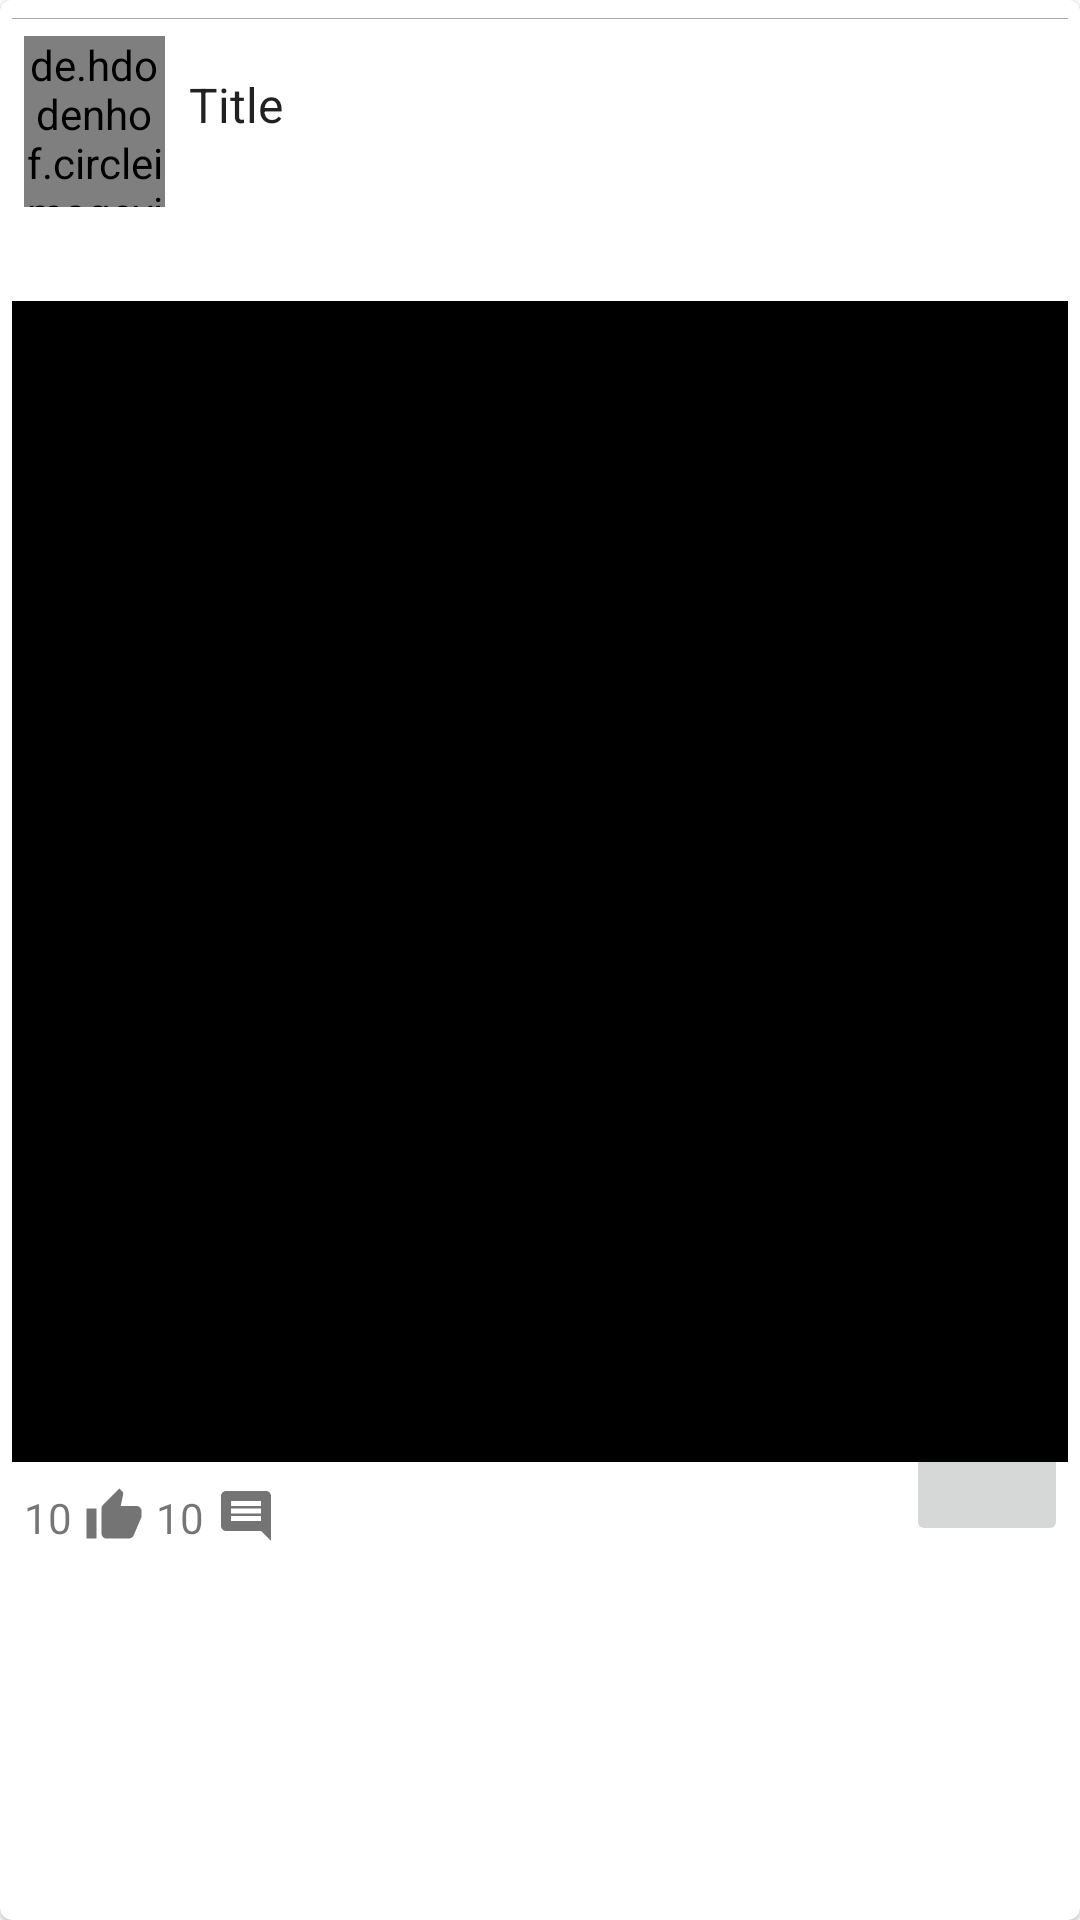

Where icons sit on this 1080×1920 app screen, as (x1, y1, x2, y2):
comment: (221, 1491, 271, 1541)
like: (86, 1488, 142, 1539)
